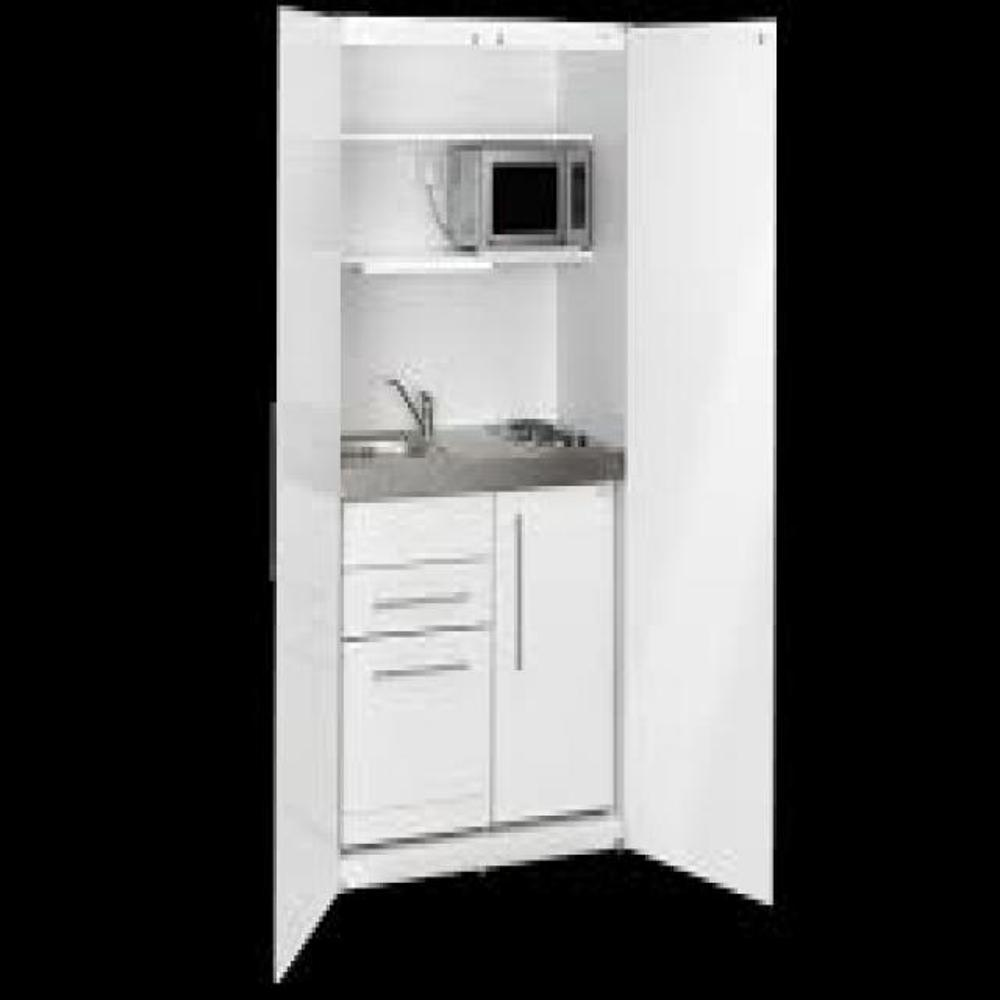cabinet: (280, 14, 777, 980)
